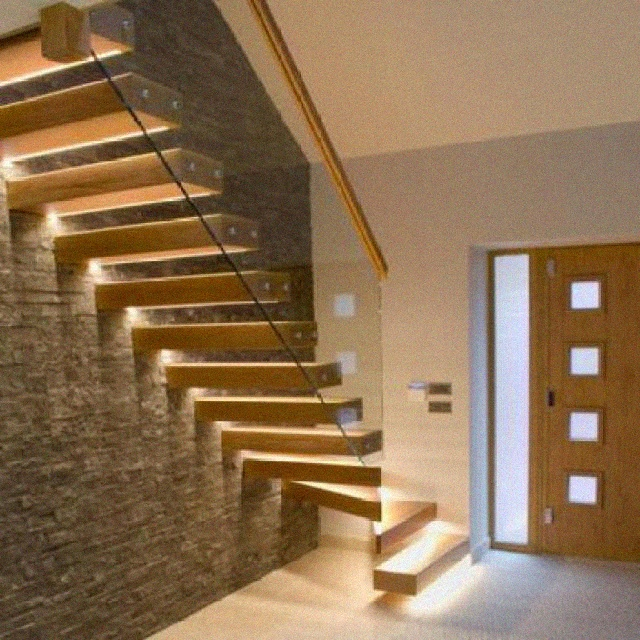stair: (1, 10, 473, 593)
